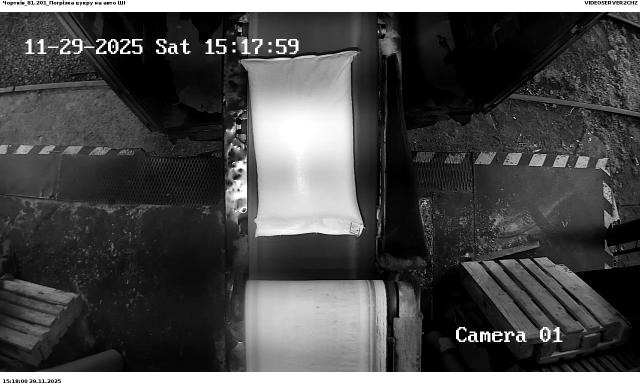bag: (239, 50, 364, 236)
